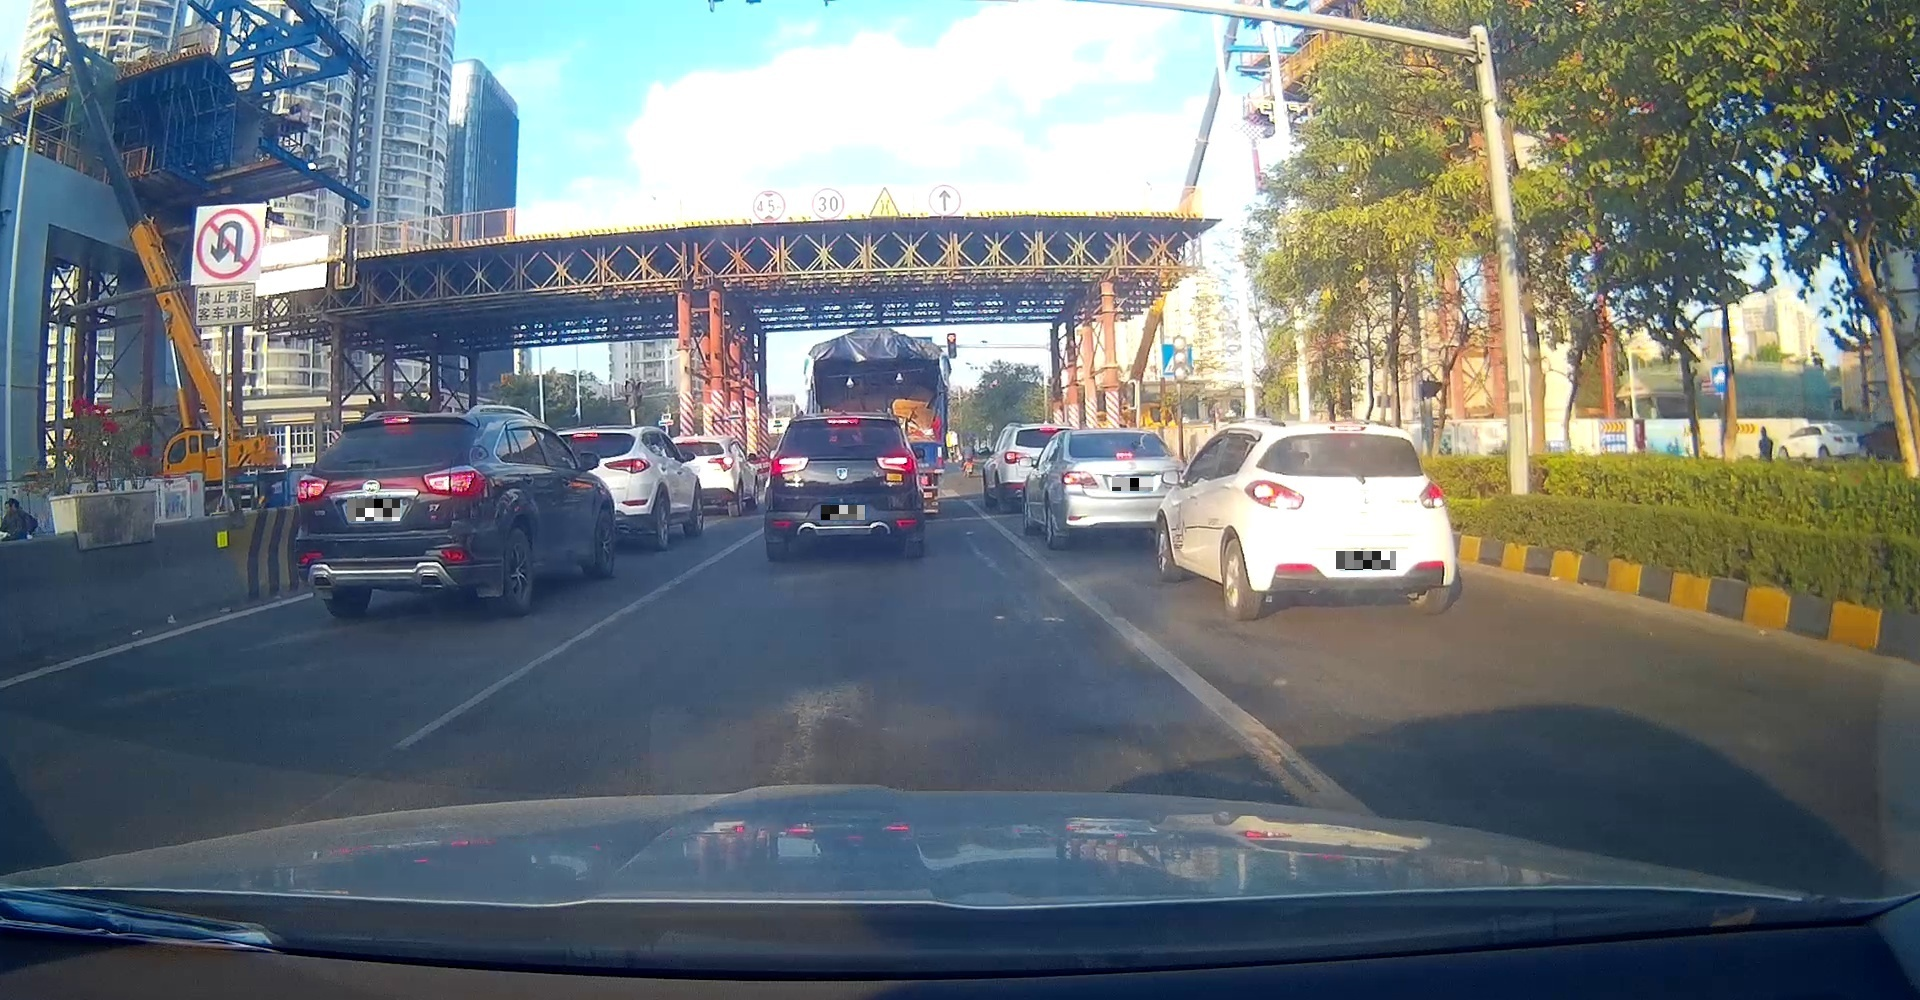L_light: (1243, 480, 1304, 510), (296, 473, 329, 503), (770, 456, 808, 475)
R_light: (423, 464, 488, 496), (1420, 481, 1446, 509), (876, 456, 916, 472)
T_light: (383, 416, 411, 425), (1330, 426, 1366, 431), (827, 418, 858, 423)
day-brake: (1239, 423, 1457, 614), (295, 411, 493, 615), (763, 412, 924, 558)
plate_1: (347, 499, 400, 522)
plate_2: (822, 505, 865, 520)
plate_3: (1112, 478, 1153, 491)
plate_4: (1336, 551, 1396, 570)
